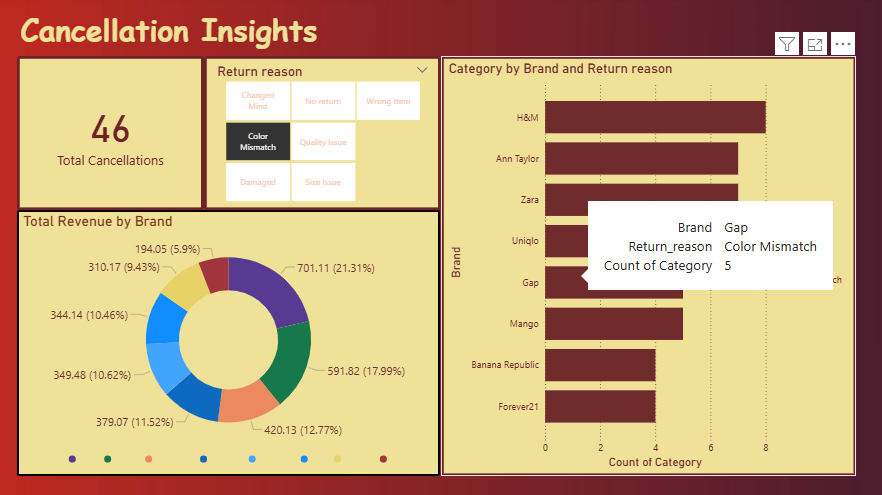

This screenshot's page, from the dashboard's own definition file:
{"tool":"powerbi","page":{"name":"Cancellation","canvas":[1280,720],"ordinal":5},"visuals":[{"type":"clusteredBarChart","title":"Category by Brand and Return reason","fields":{"Category":["Fashion_Data.Brand"],"Y":["CountNonNull(Fashion_Data.Category)"],"Series":["Fashion_Data.Return_reason"]},"box":[639.4,85,597.6,604.8],"z":0},{"type":"donutChart","fields":{"Category":["Fashion_Data.Brand"],"Y":["Fashion_Data.Total Revenue"]},"box":[28.8,306.7,609.1,383],"z":1000},{"type":"slicer","fields":{"Values":["Fashion_Data.Return_reason"]},"box":[298.1,85,341.3,221.8],"z":2000},{"type":"card","fields":{"Values":["Fashion_Data.Total Cancellations"]},"box":[28.8,85,269.3,221.8],"z":3000},{"type":"textbox","box":[28.8,11.5,540,96.5],"z":4000}]}

Visuals, with their boxes in screenshot pixels (x1, y1, x2, y2), scaled from the page's 1280x720 canvas onto the 882x495 screenshot:
"Category by Brand and Return reason" clusteredBarChart: <box>441,58,852,474</box>
donutChart - Fashion_Data.Brand x Fashion_Data.Total Revenue: <box>20,211,440,474</box>
slicer - Fashion_Data.Return_reason: <box>205,58,441,211</box>
card - Fashion_Data.Total Cancellations: <box>20,58,205,211</box>
textbox: <box>20,8,392,74</box>
